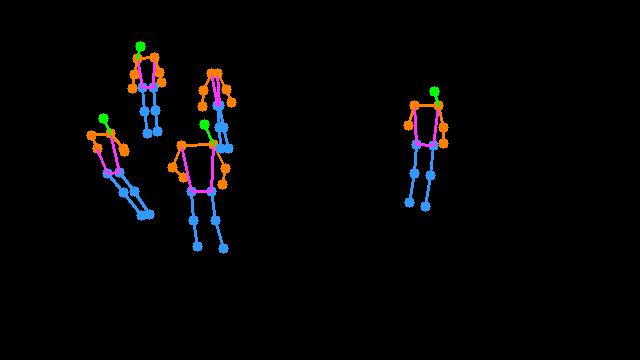normal: (158, 56, 267, 264)
